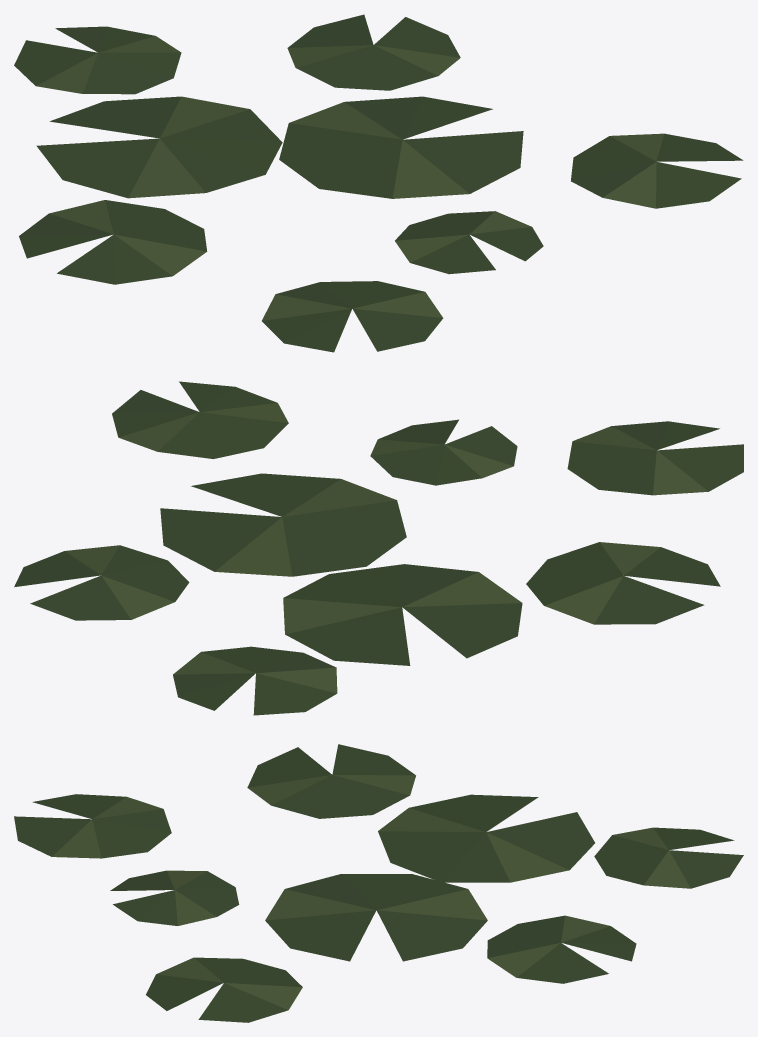
The model's file is source_5.glb.
3 renders of one model, top to bottom at view 1: azimuth 30°, elevation 25°; view 2: azimuth 150°, elevation 25°; view 3: azimuth 270°, elevation 25°, orthographic. The views are drawn at different scales.
Parts seen in each view (by area): view 1: Notched floating lily; view 2: Notched floating lily; view 3: Notched floating lily.
Boxes of the visible parts, <box> form: Notched floating lily: <box>14,14,743,352</box>; Notched floating lily: <box>14,381,743,715</box>; Notched floating lily: <box>14,744,743,1022</box>.
Size of the model in its own units: 2.5 by 0.035 by 2.79.
